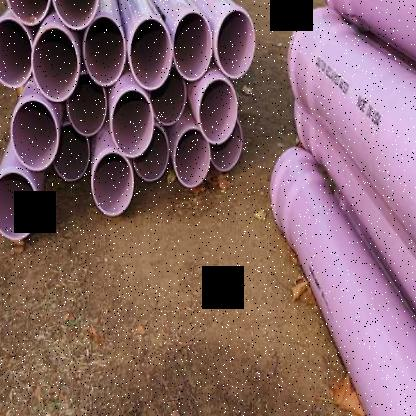pipe: (31, 27, 79, 102), (11, 99, 59, 170), (84, 15, 126, 86), (130, 18, 172, 89), (111, 90, 154, 157), (173, 11, 213, 81), (92, 152, 134, 217), (217, 9, 256, 79), (0, 172, 39, 239), (67, 71, 106, 136), (199, 79, 238, 144), (173, 126, 211, 188), (0, 17, 31, 87), (54, 124, 89, 183), (133, 127, 169, 183), (152, 78, 187, 126), (211, 120, 243, 171)
